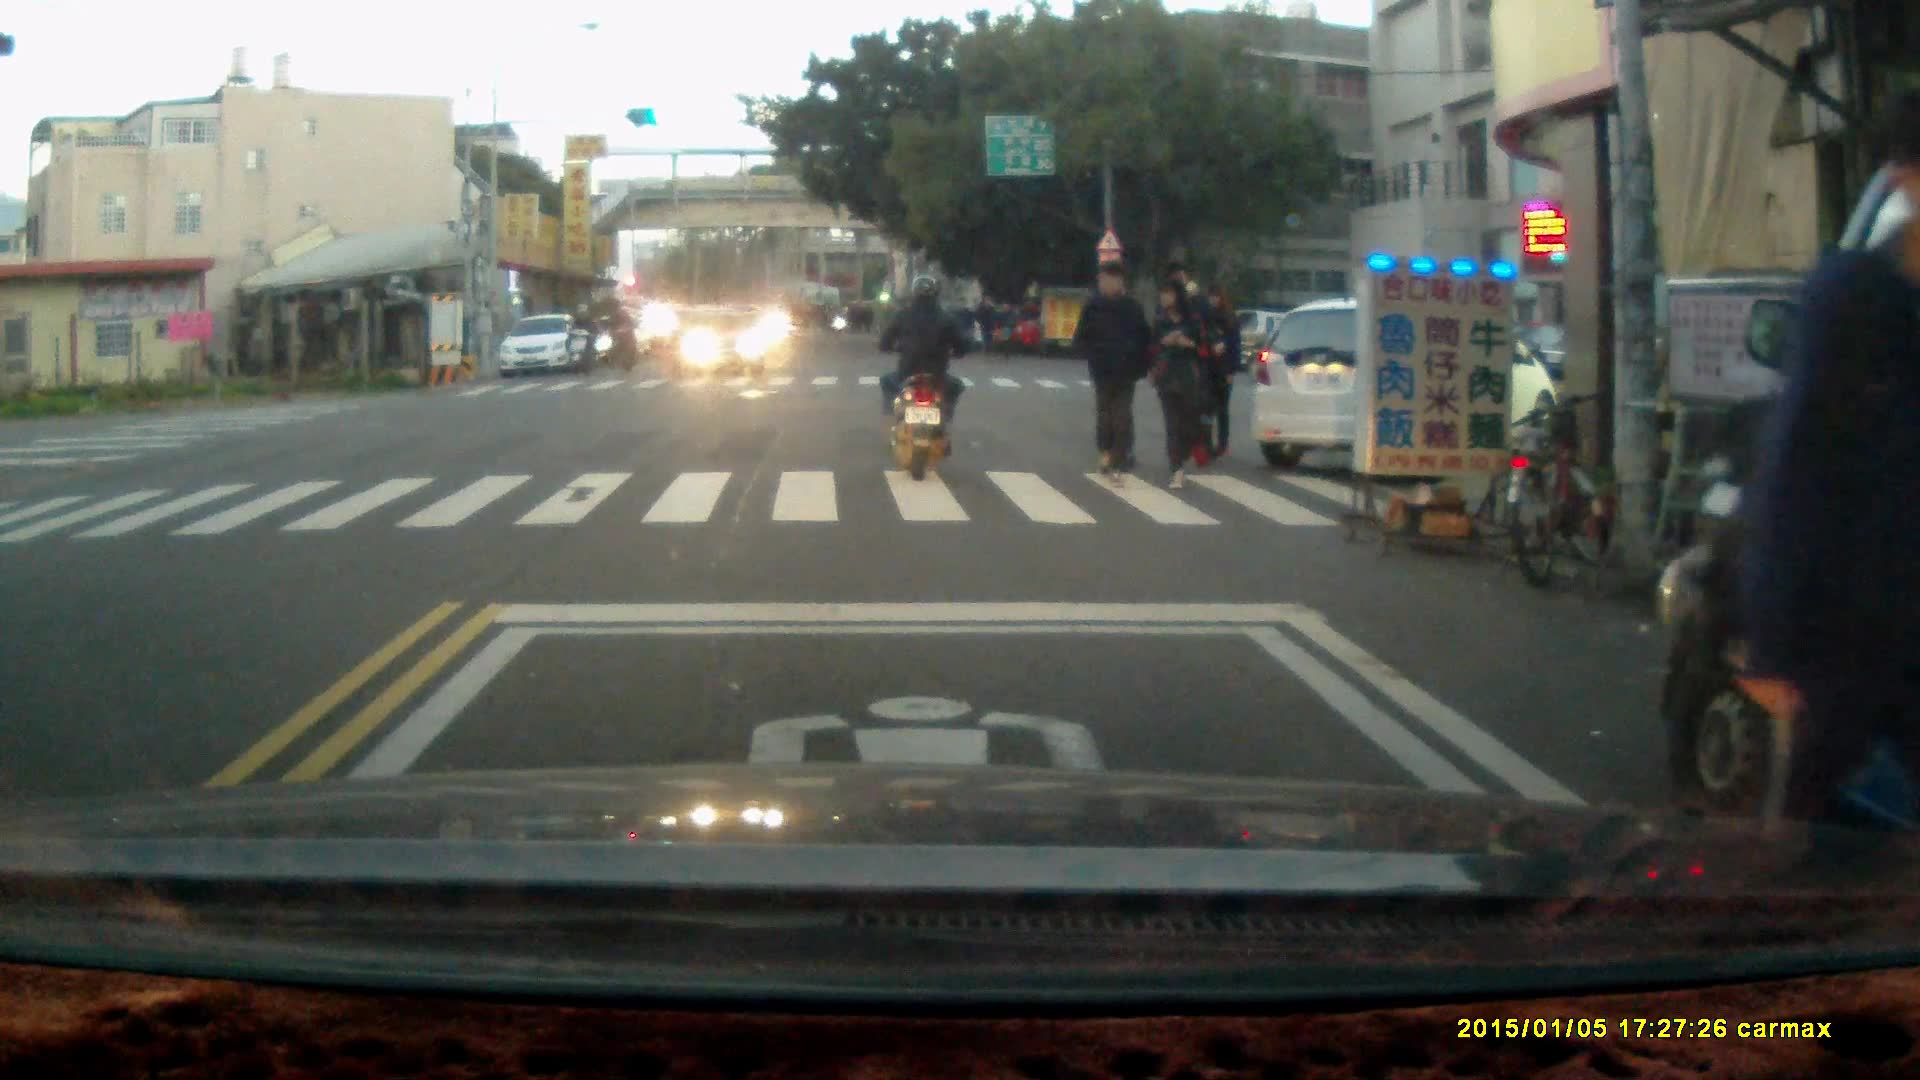pedestrian: (1722, 87, 1919, 882), (1072, 256, 1150, 487), (1147, 272, 1215, 489), (1199, 283, 1248, 464), (973, 290, 998, 364), (994, 297, 1018, 367)
rider: (879, 269, 970, 481), (564, 299, 595, 375), (607, 299, 638, 370)
vehicle: (1655, 149, 1920, 864), (1254, 303, 1563, 470), (663, 309, 771, 381), (503, 310, 596, 375)
